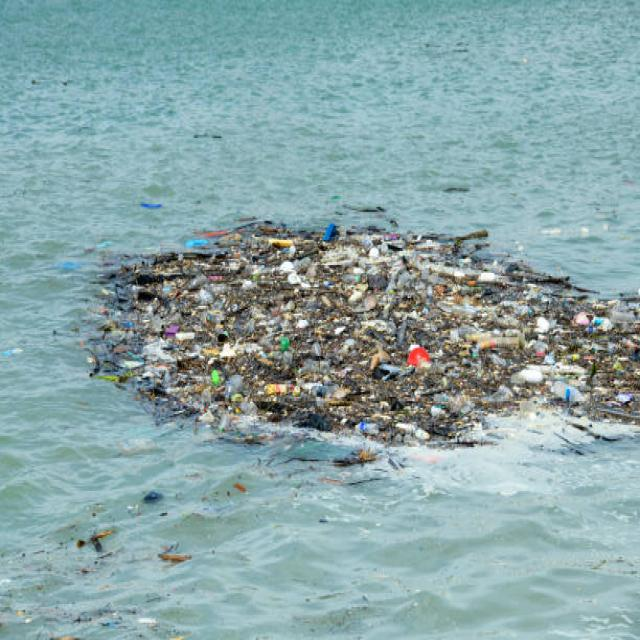glass: (463, 331, 519, 354)
plastic: (160, 263, 328, 386), (340, 234, 480, 304)
